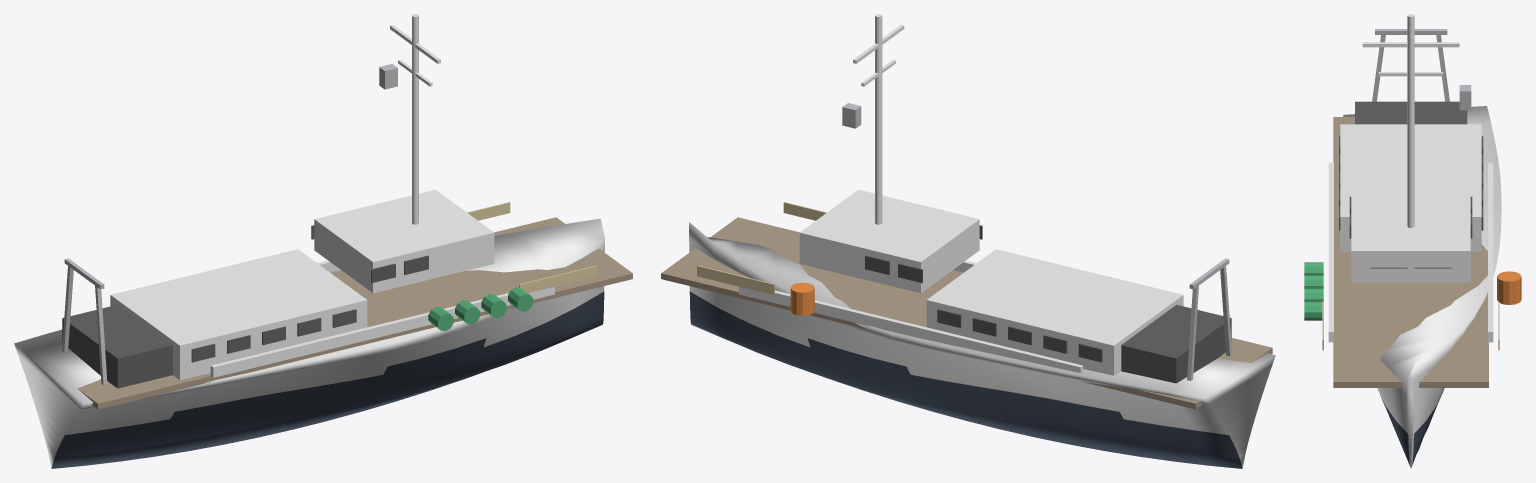
Rendered from fveileen.glb.
3 renders of one model, left to right at view 1: azimuth 30°, elevation 25°; view 2: azimuth 150°, elevation 25°; view 3: azimuth 270°, elevation 25°, orthographic.
Parts seen in each view (by area): view 1: FVEileen; view 2: FVEileen; view 3: FVEileen.
Boxes of the visible parts, x1=… form: FVEileen: x1=14, y1=14, x2=632, y2=468; FVEileen: x1=661, y1=14, x2=1275, y2=468; FVEileen: x1=1304, y1=14, x2=1521, y2=468.
Size of the model in its own units: 50 by 33.3 by 16.8.
